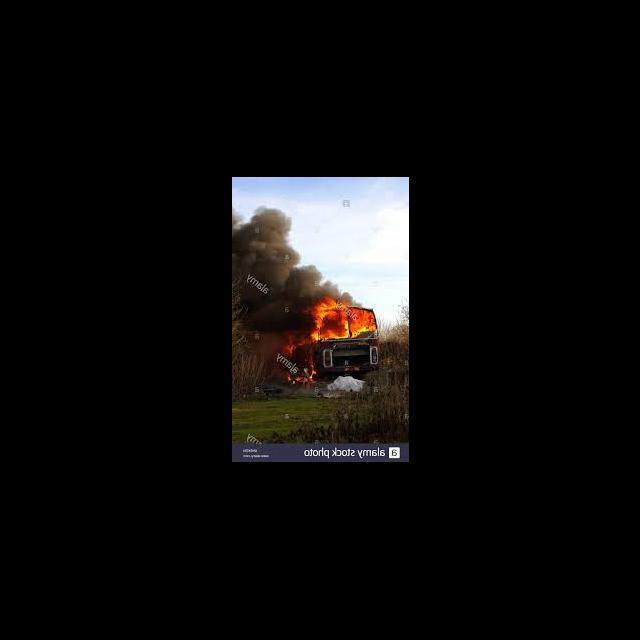Fire: (312, 300, 376, 346), (275, 358, 319, 388), (282, 328, 310, 354)
Smoke: (232, 206, 308, 328)
